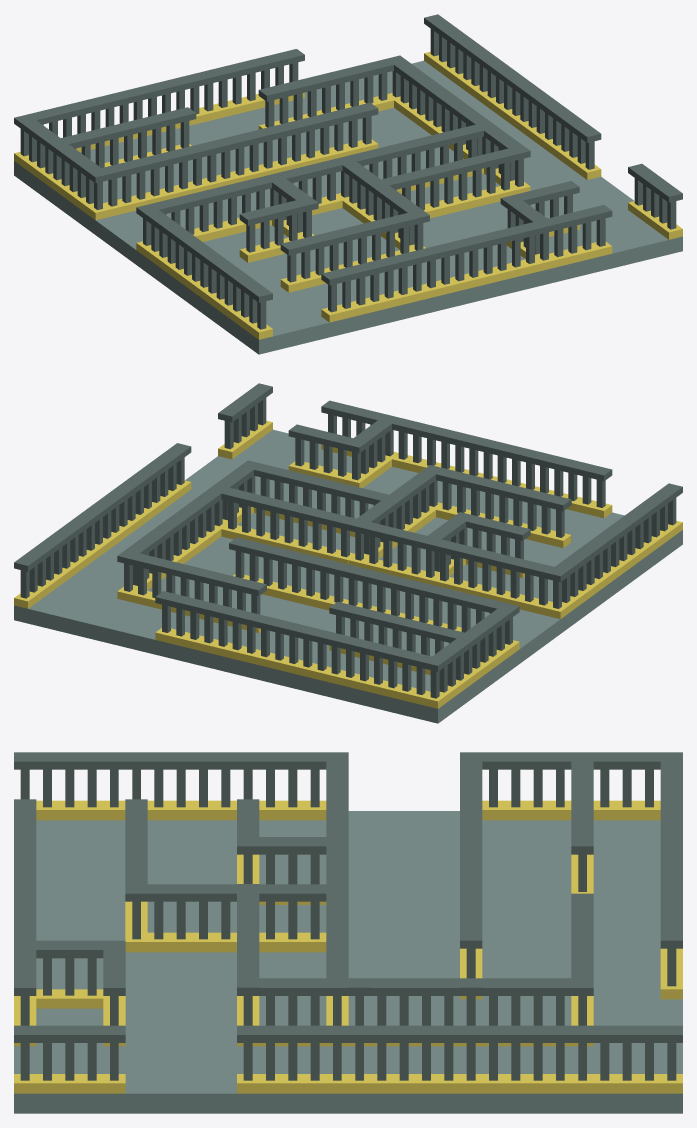
Rendered from MazeObject.fbx.
3 renders of one model, top to bottom at view 1: azimuth 30°, elevation 25°; view 2: azimuth 150°, elevation 25°; view 3: azimuth 270°, elevation 25°, orthographic. The views are drawn at different scales.
Parts seen in each view (by area): view 1: MazeObject; view 2: MazeObject; view 3: MazeObject.
Part boxes in pixels (<box>): MazeObject: <box>14,14,682,354</box>; MazeObject: <box>14,383,682,723</box>; MazeObject: <box>14,752,682,1113</box>.
Bounding box in the file's own units: 15 × 1.95 × 15.
